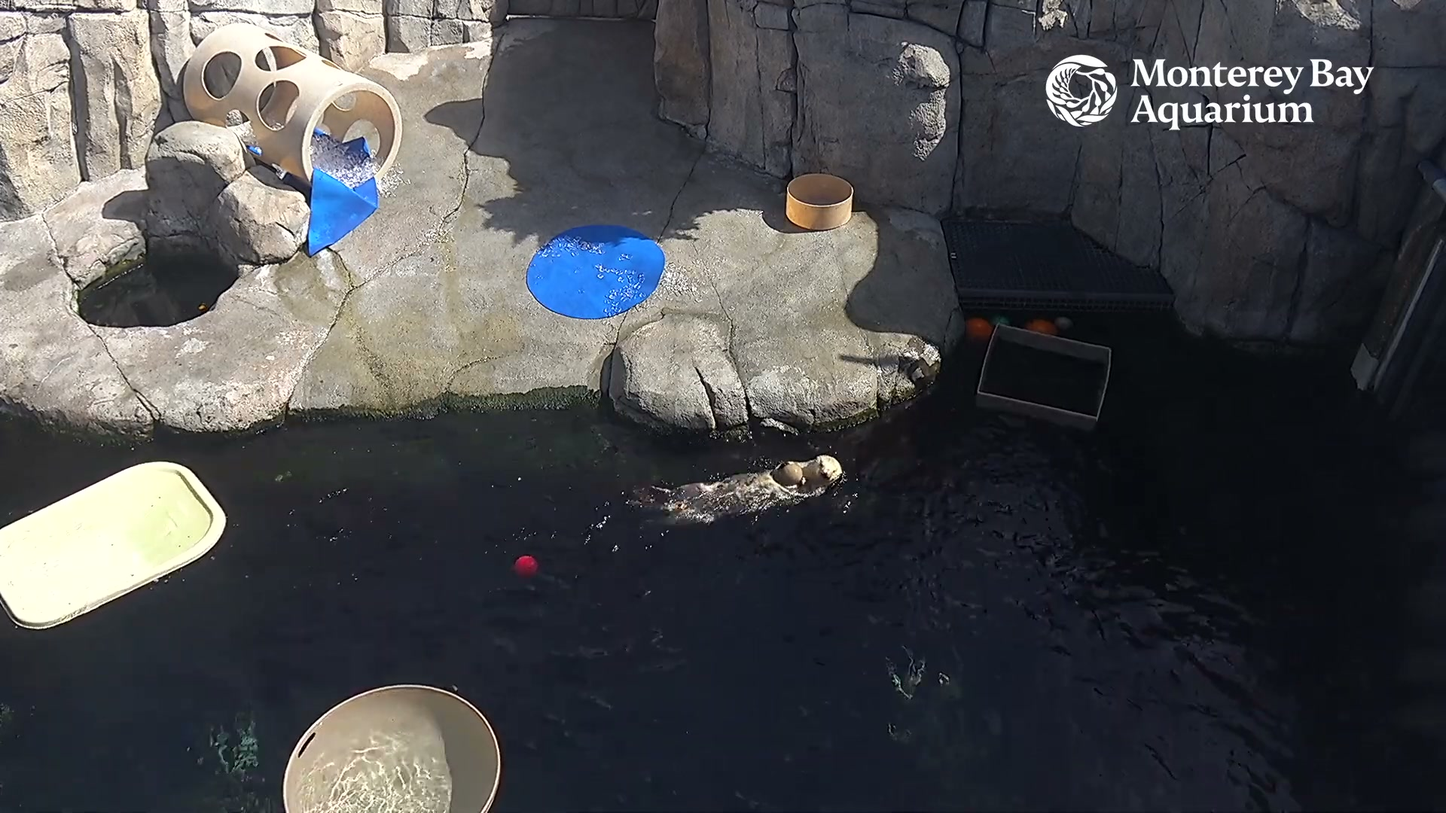Southern Sea Otter: (581, 436, 871, 531)
